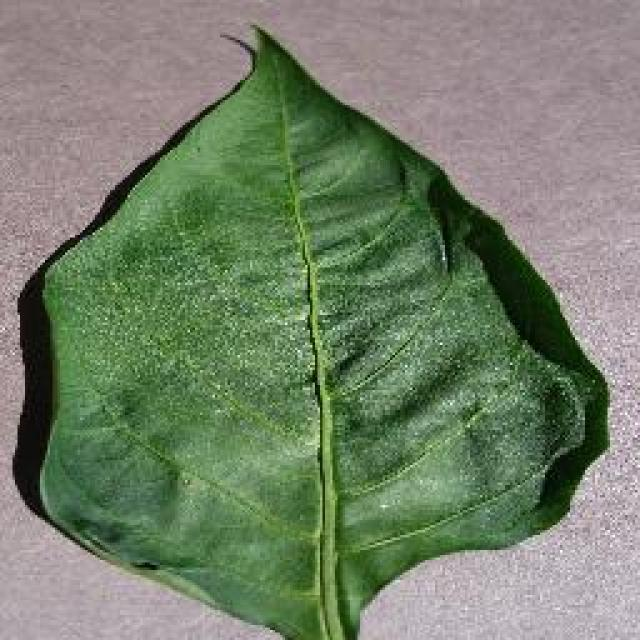Chilli_Healthy: (30, 20, 612, 638)
